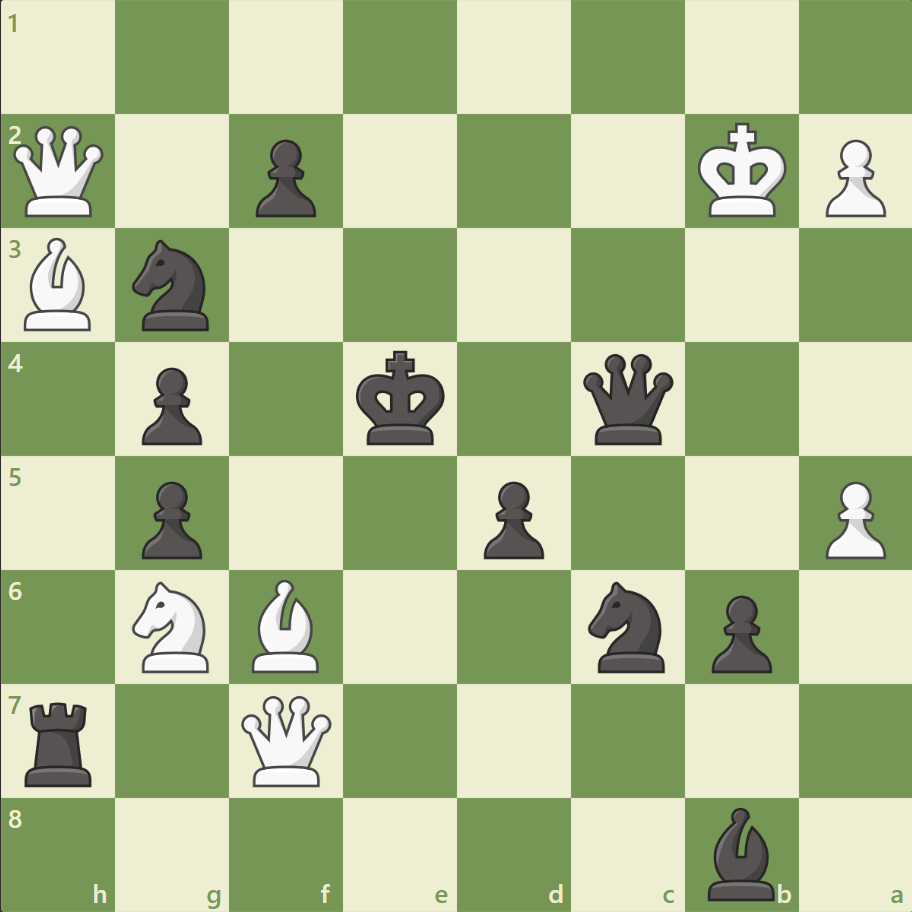B: (17, 233, 101, 336), (244, 574, 328, 676)
K: (692, 117, 792, 225)
N: (124, 575, 222, 677)
P: (815, 473, 889, 564), (815, 132, 889, 223)
Q: (10, 122, 109, 222), (237, 690, 336, 789)
b: (698, 801, 782, 904)
k: (351, 344, 451, 452)
n: (124, 234, 222, 337), (579, 575, 676, 677)
p: (701, 586, 776, 677), (474, 473, 549, 564), (133, 473, 208, 564), (133, 359, 208, 450), (247, 132, 322, 223)
q: (578, 349, 677, 449)
r: (19, 693, 102, 790)
